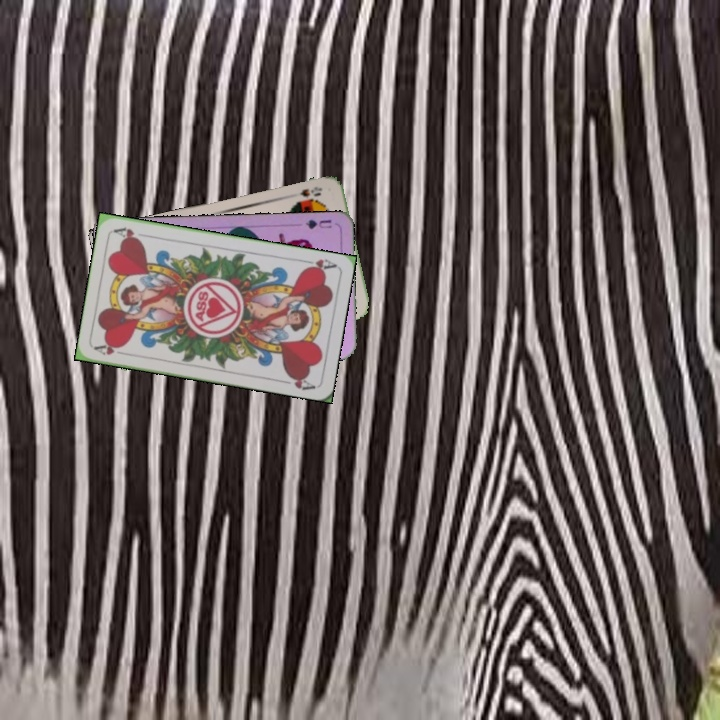GU: (301, 215, 334, 232)
HA: (298, 255, 338, 274), (91, 340, 132, 358)
SO: (292, 183, 324, 205)
